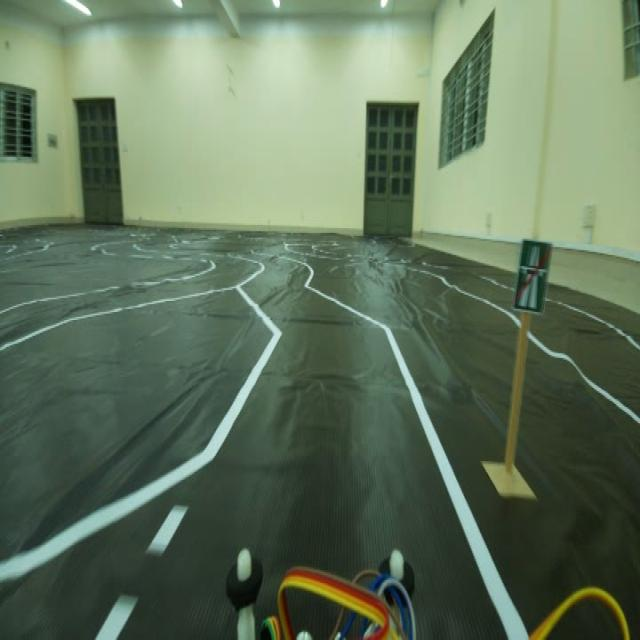highway_exit: (511, 227, 557, 337)
